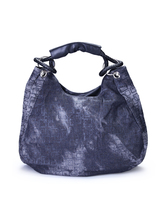bag: (17, 43, 152, 176)
